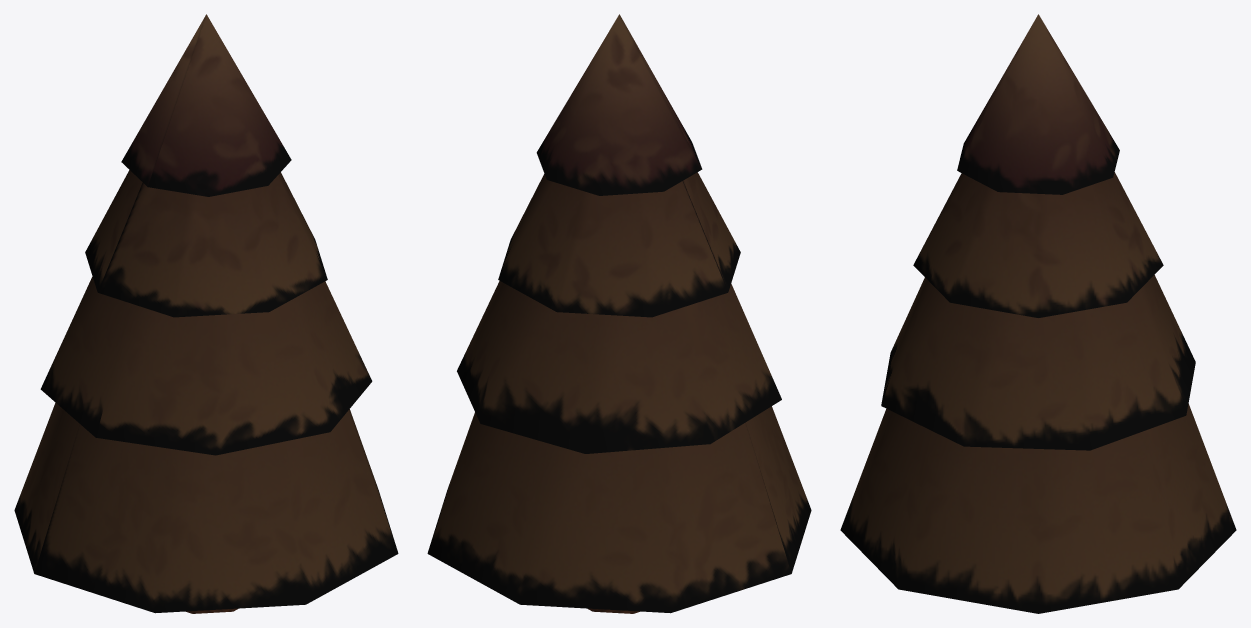
The model's file is Tree3.fbx.
The picture shows the model from 3 angles, left to right: view 1: azimuth 30°, elevation 25°; view 2: azimuth 150°, elevation 25°; view 3: azimuth 270°, elevation 25°; orthographic projection.
Parts seen in each view (by area): view 1: tree3; view 2: tree3; view 3: tree3.
Boxes of the visible parts, x1,y1,x2,y2 form: tree3: (14,14,398,613); tree3: (427,14,811,613); tree3: (840,14,1236,613).
Bounding box in the file's own units: 327 × 524 × 327.
1 material, 1 textured.
